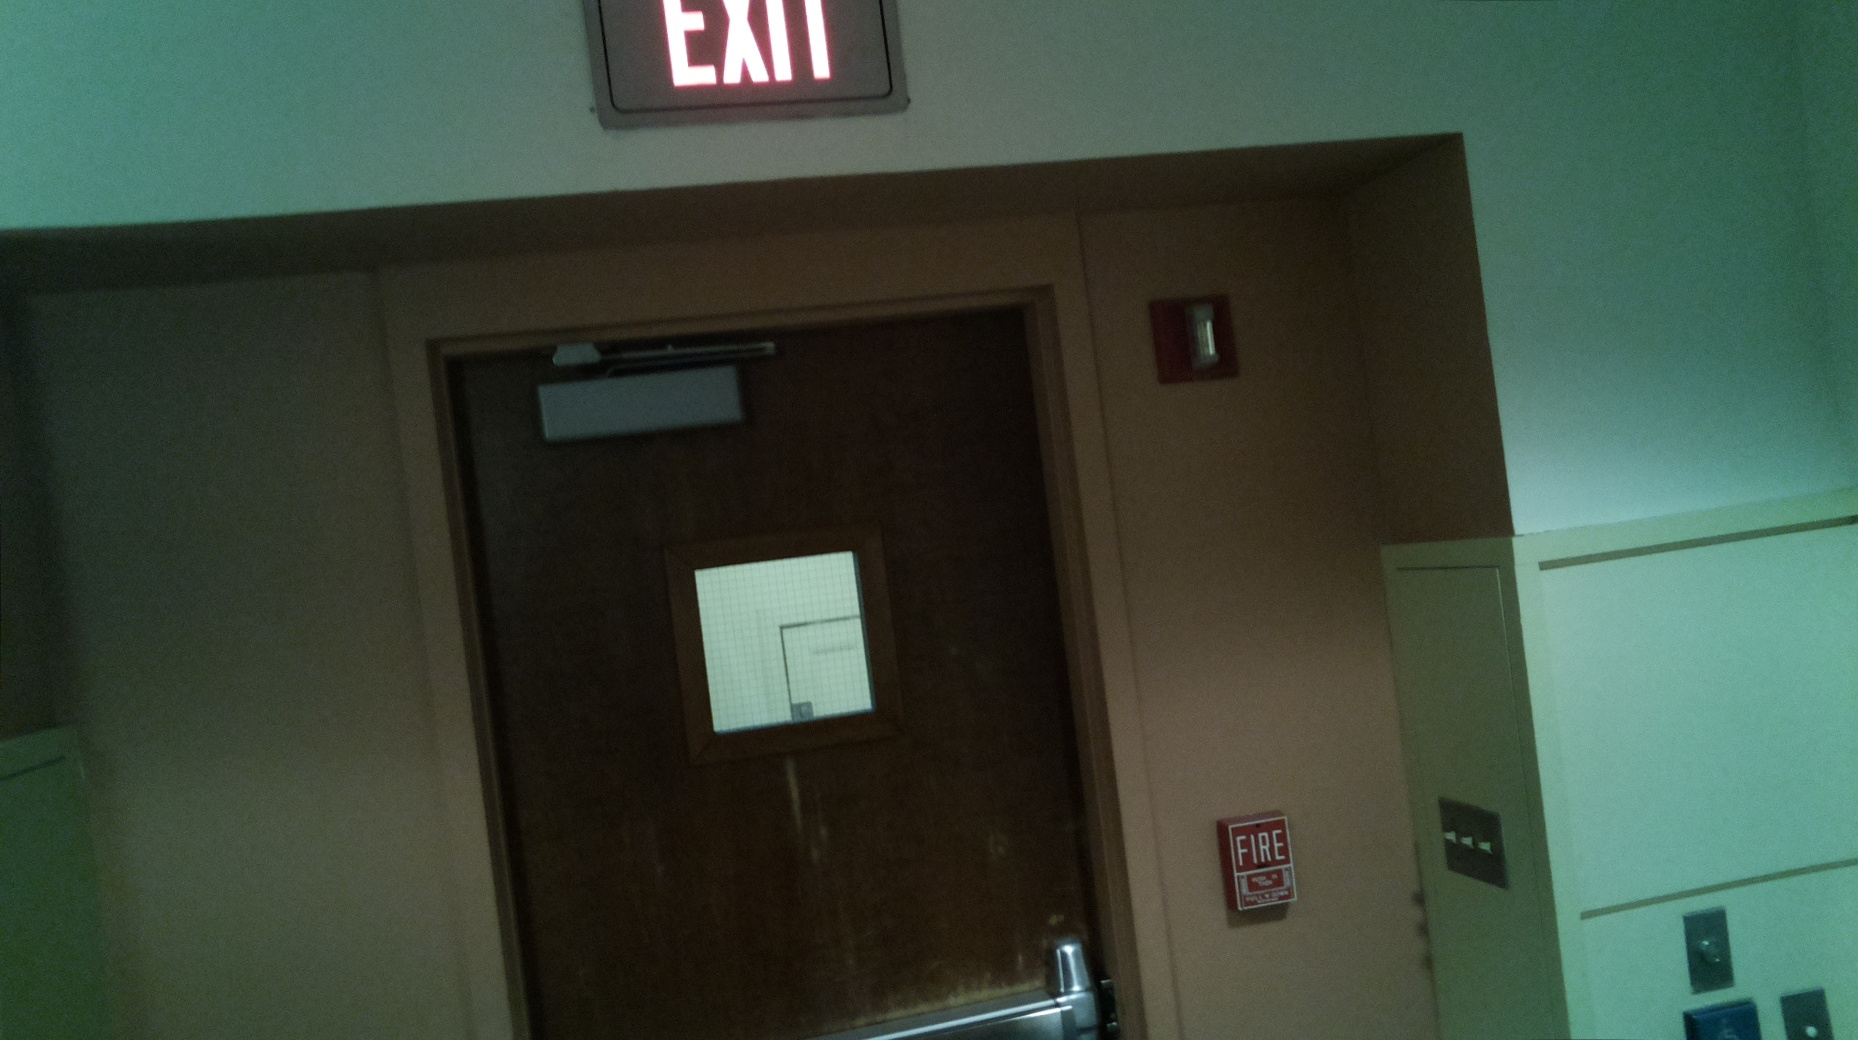exit sign: (570, 1, 918, 138)
